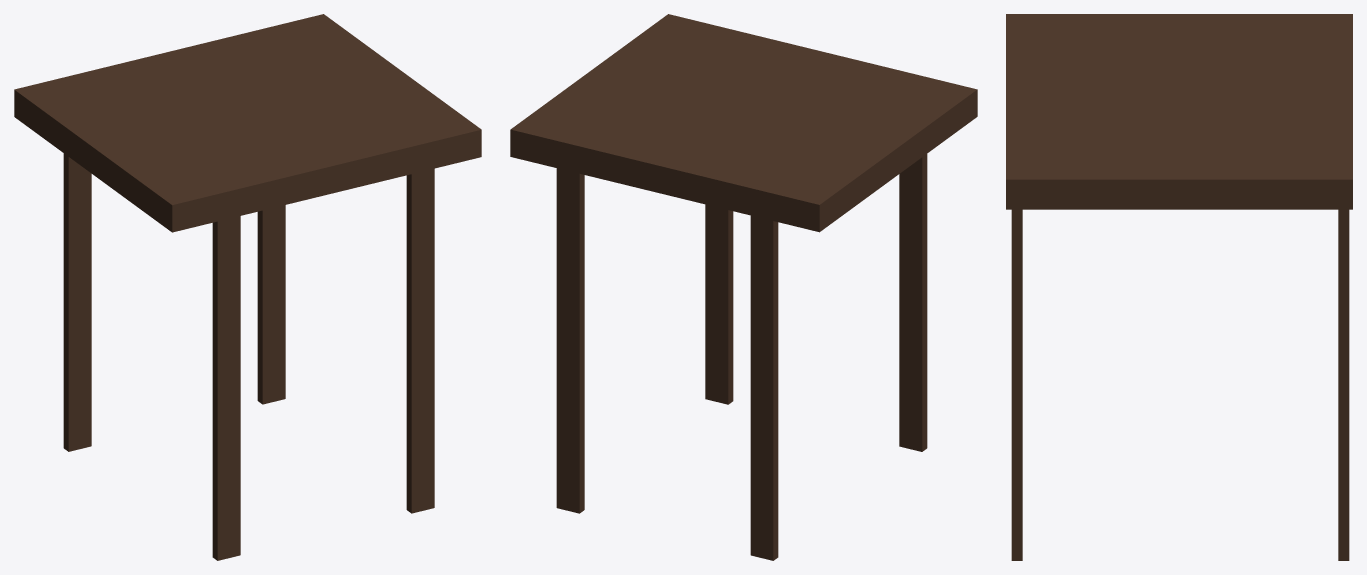
File: small table.fbx
3 renders of one model, left to right at view 1: azimuth 30°, elevation 25°; view 2: azimuth 150°, elevation 25°; view 3: azimuth 270°, elevation 25°, orthographic. The views are drawn at different scales.
Visible parts, largest first — view 1: polySurface3464; view 2: polySurface3464; view 3: polySurface3464.
Boxes of the visible parts, bbox=[...] form: polySurface3464: bbox=[14, 14, 481, 560]; polySurface3464: bbox=[510, 14, 977, 560]; polySurface3464: bbox=[1006, 14, 1352, 560].
Size of the model in its own units: 8772 by 9998 by 7757.
